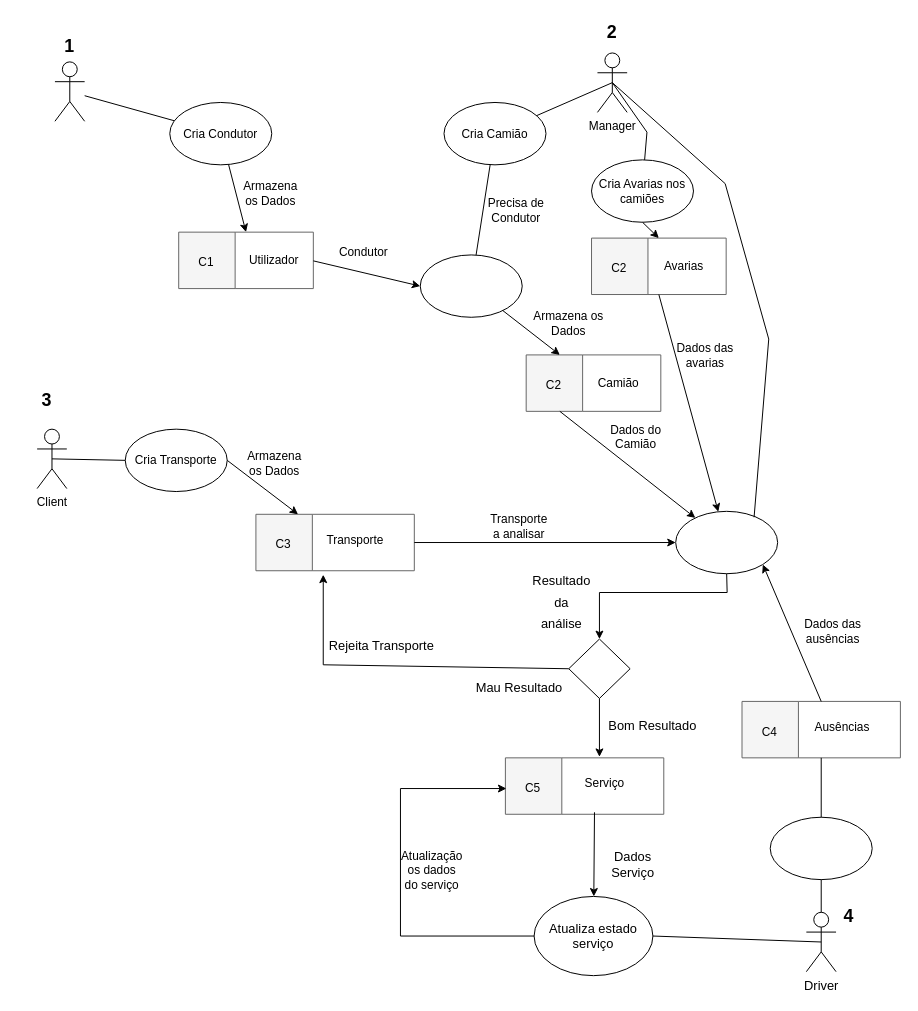
Image size: 918x1011. Some labels were removed from this diagram. The box of each missing label's shape, as (x1, y1, x2, y2) in pixels:
Analisa Transporte: (675, 510, 778, 574)
Associa Condutor: (419, 254, 522, 317)
Cria Ausências: (769, 816, 872, 880)
SuperAdmin: (54, 61, 85, 121)
